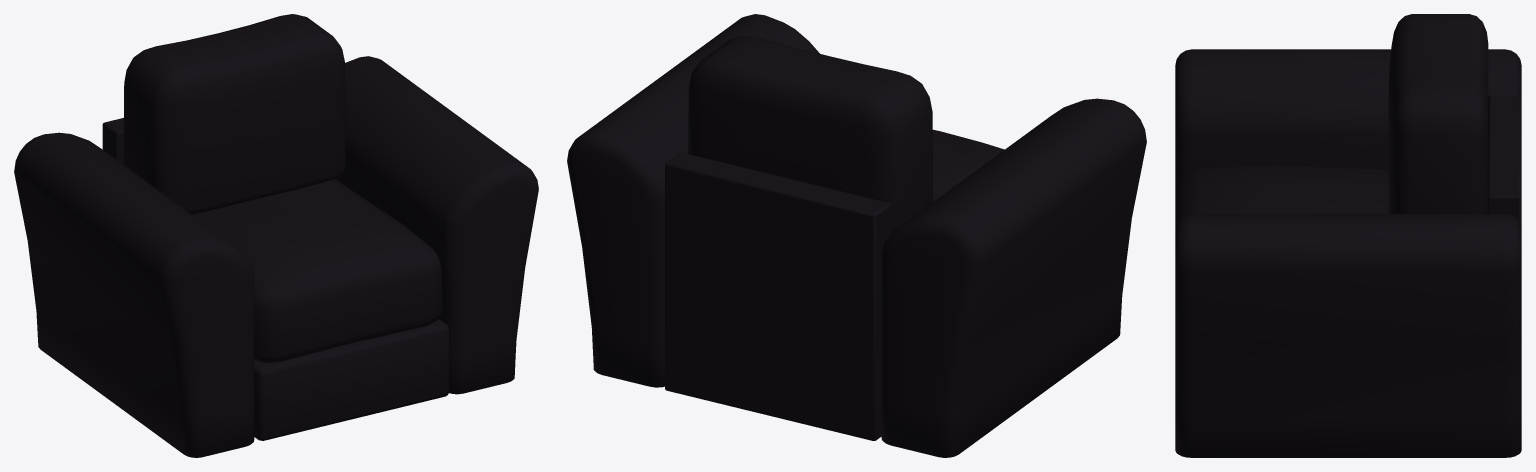
The model's file is Chair1.fbx.
3 renders of one model, left to right at view 1: azimuth 30°, elevation 25°; view 2: azimuth 150°, elevation 25°; view 3: azimuth 270°, elevation 25°, orthographic. The views are drawn at different scales.
Parts seen in each view (by area): view 1: Chair1; view 2: Chair1; view 3: Chair1.
Part boxes in pixels (x1,y1,x2,y2): Chair1: (14,14,538,457); Chair1: (567,14,1146,457); Chair1: (1175,14,1521,457).
Size of the model in its own units: 1.61 by 1.18 by 1.17.
